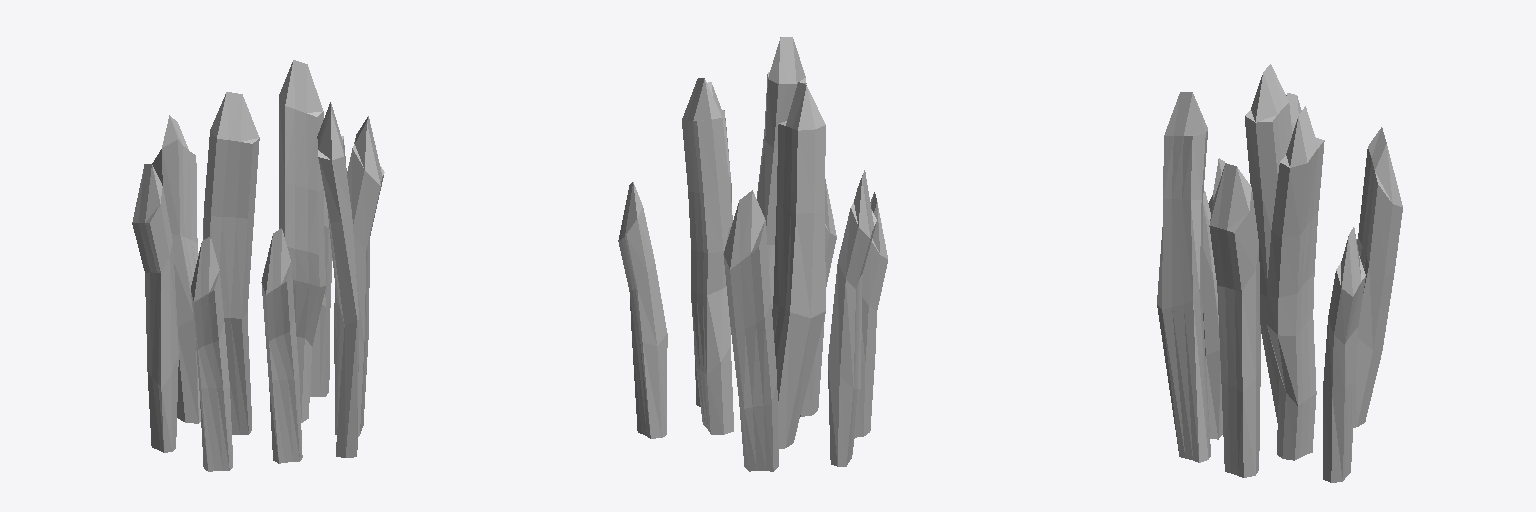
File: Seaweed_A_03_LOD2.obj
3 renders of one model, left to right at view 1: azimuth 30°, elevation 25°; view 2: azimuth 150°, elevation 25°; view 3: azimuth 270°, elevation 25°, orthographic.
Parts seen in each view (by area): view 1: Seaweed_A_03_LOD2_Cylinder.416; view 2: Seaweed_A_03_LOD2_Cylinder.416; view 3: Seaweed_A_03_LOD2_Cylinder.416.
Part boxes in pixels (x1,y1,x2,y2): Seaweed_A_03_LOD2_Cylinder.416: (132,60,384,471); Seaweed_A_03_LOD2_Cylinder.416: (618,37,887,471); Seaweed_A_03_LOD2_Cylinder.416: (1157,64,1402,482).
Size of the model in its own units: 4.53 by 6.86 by 4.27.